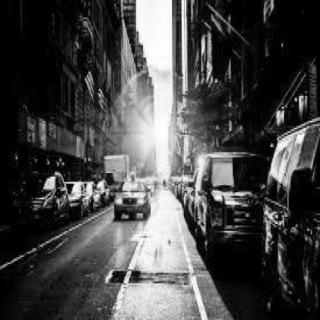other: (137, 96, 177, 156)
